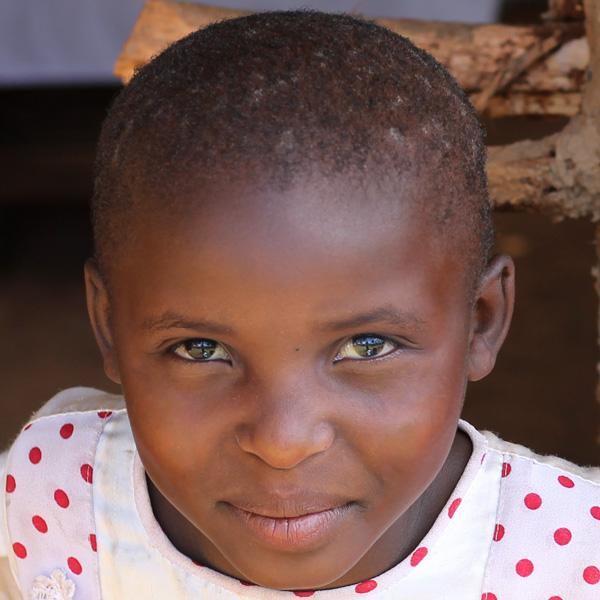Eyes: (321, 317, 419, 378), (150, 325, 241, 376)
